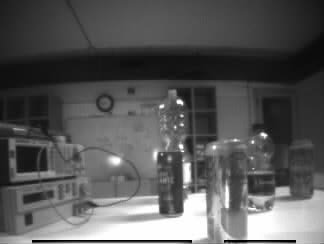Bottle: (249, 123, 275, 209), (159, 88, 191, 152)
Tin can: (205, 139, 248, 244), (158, 152, 182, 215), (290, 141, 313, 202)
